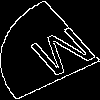M: (25, 25, 100, 86)
